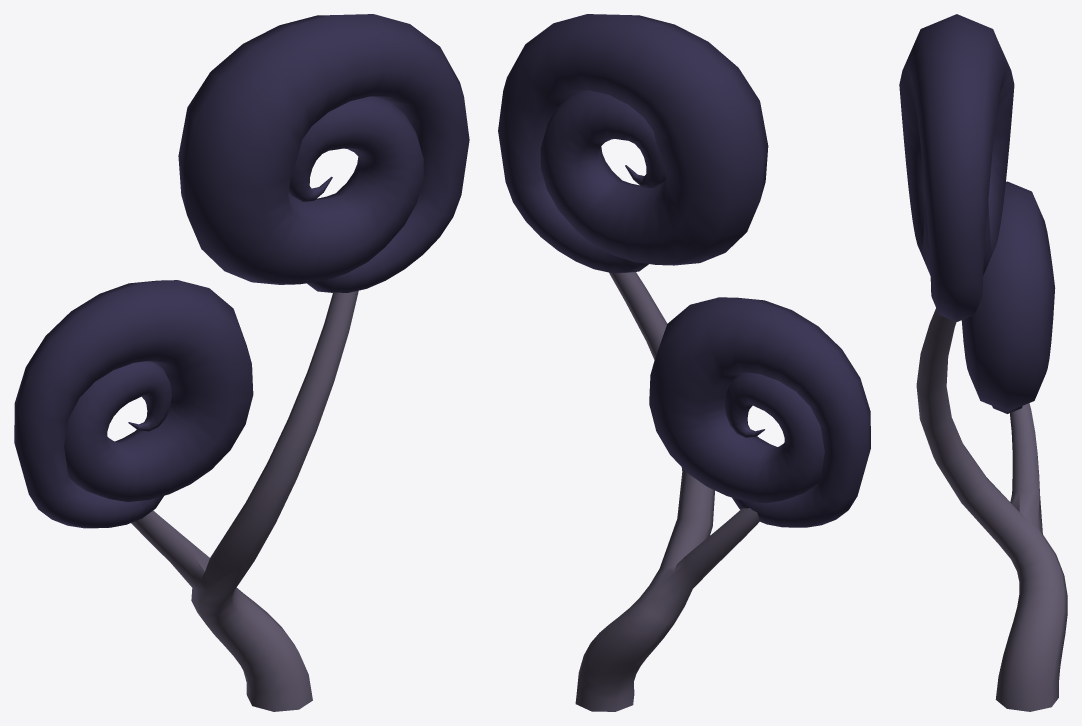
The model's file is quaternius-ultimate-space-tree-swirl-1.glb.
3 renders of one model, left to right at view 1: azimuth 30°, elevation 25°; view 2: azimuth 150°, elevation 25°; view 3: azimuth 270°, elevation 25°, orthographic. The views are drawn at different scales.
Visible parts, largest first — view 1: Tree_Swirl_1; view 2: Tree_Swirl_1; view 3: Tree_Swirl_1.
Boxes of the visible parts, x1,y1,x2,y2 form: Tree_Swirl_1: (14,14,469,711); Tree_Swirl_1: (498,14,870,711); Tree_Swirl_1: (899,14,1067,711).
Bounding box in the file's own units: 4.61 × 7.35 × 1.68.
Materials: 1 (1 with a texture image).
